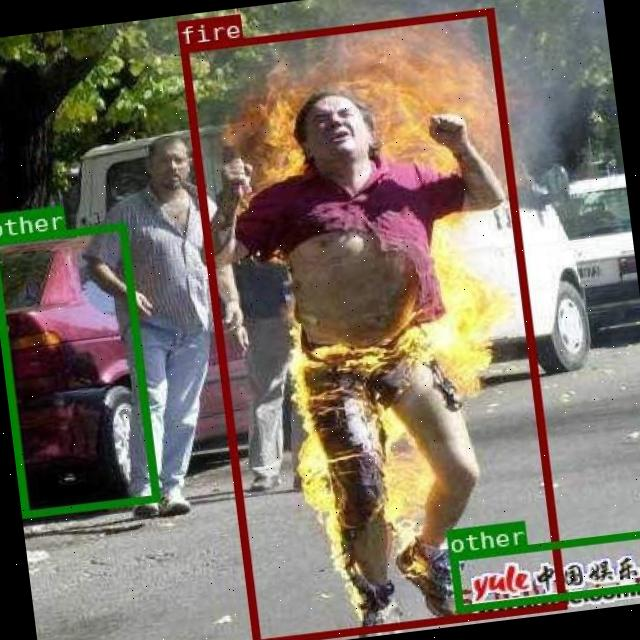fire: (179, 7, 564, 640)
